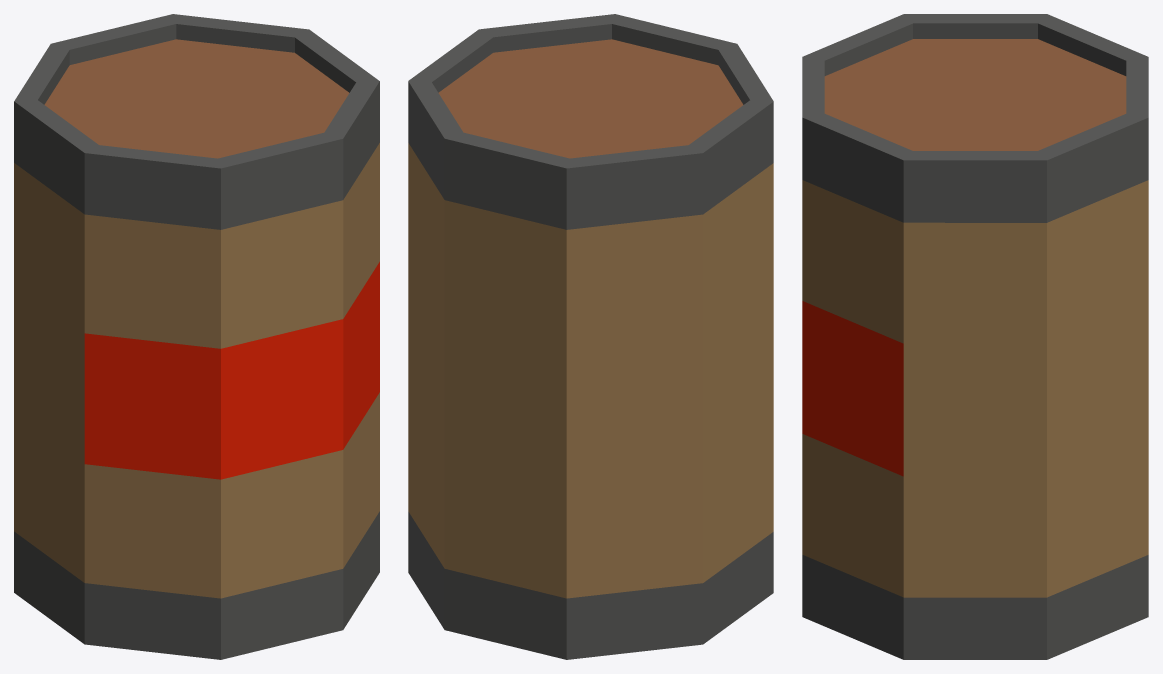
File: Can_2.fbx
3 views of the same model, side by side, from view 1: azimuth 30°, elevation 25°; view 2: azimuth 150°, elevation 25°; view 3: azimuth 270°, elevation 25° (orthographic).
Visible parts, largest first — view 1: Can_2; view 2: Can_2; view 3: Can_2.
Part boxes in pixels (x1,y1,x2,y2): Can_2: (14, 14, 379, 659); Can_2: (408, 14, 773, 659); Can_2: (802, 14, 1148, 659).
Size of the model in its own units: 21.42 by 34.08 by 21.42.
